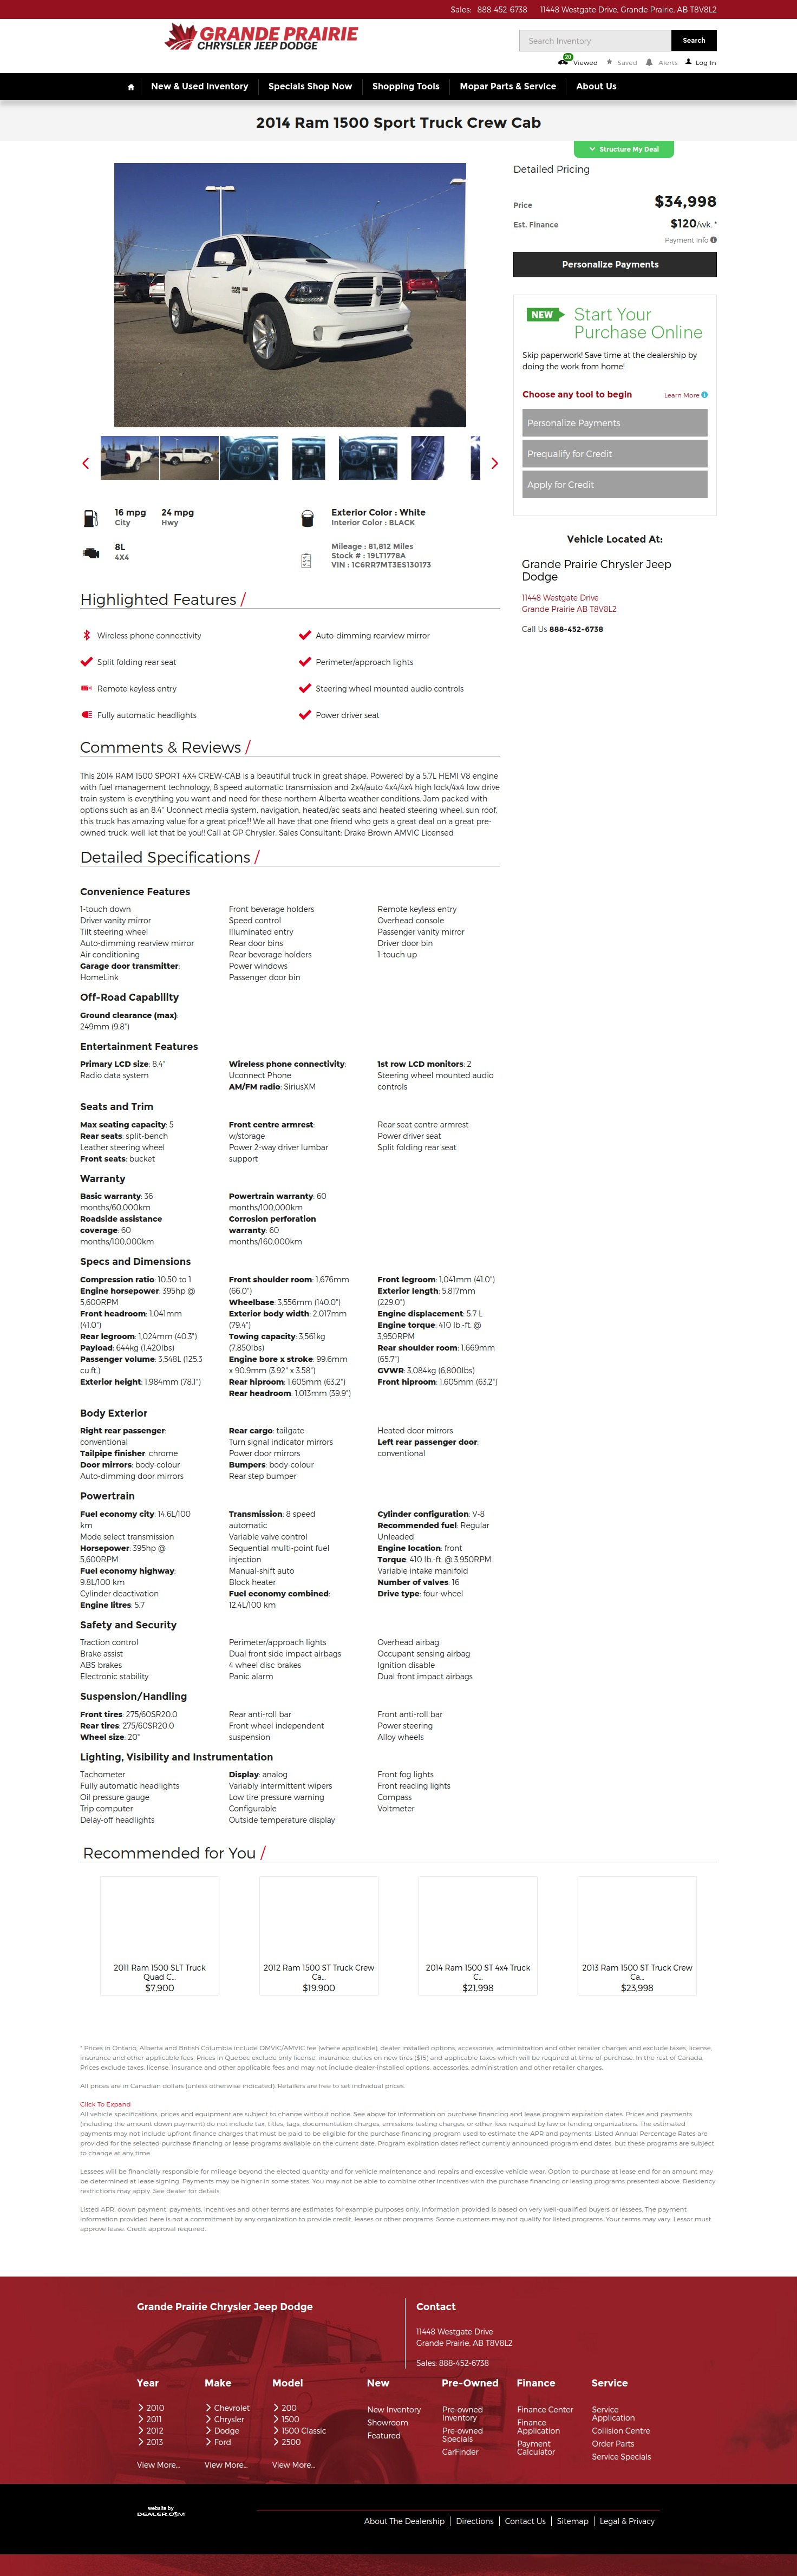car: (491, 458, 498, 470)
